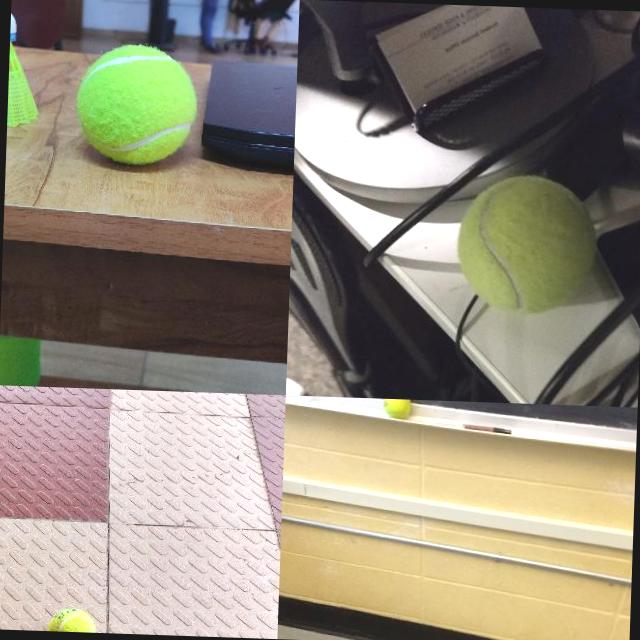Tennis Ball: (456, 172, 600, 314), (76, 44, 198, 166), (47, 606, 97, 632), (382, 398, 412, 418)
